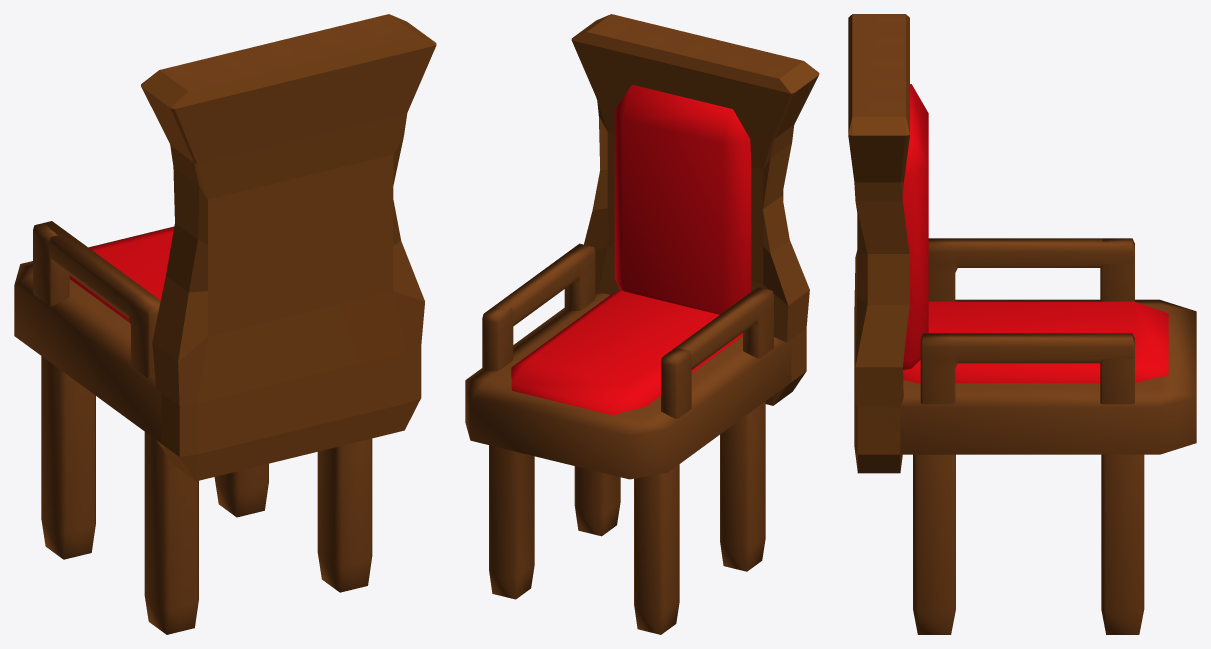
The model's file is Sillas.fbx.
3 views of the same model, side by side, from view 1: azimuth 30°, elevation 25°; view 2: azimuth 150°, elevation 25°; view 3: azimuth 270°, elevation 25° (orthographic). The views are drawn at different scales.
Visible parts, largest first — view 1: Respaldo.001, Asiento.001, AlmohadaAbajo.001; view 2: Asiento.001, Respaldo.001, AlmohadaArriba.001, AlmohadaAbajo.001; view 3: Asiento.001, Respaldo.001, AlmohadaAbajo.001, AlmohadaArriba.001.
Boxes of the visible parts, bbox=[...] form: Respaldo.001: bbox=[141, 14, 436, 481]; Asiento.001: bbox=[14, 221, 372, 634]; AlmohadaAbajo.001: bbox=[69, 227, 174, 322]; Asiento.001: bbox=[465, 243, 791, 634]; Respaldo.001: bbox=[571, 14, 819, 405]; AlmohadaArriba.001: bbox=[614, 85, 751, 314]; AlmohadaAbajo.001: bbox=[511, 290, 742, 415]; Asiento.001: bbox=[891, 238, 1196, 634]; Respaldo.001: bbox=[848, 14, 909, 473]; AlmohadaAbajo.001: bbox=[903, 301, 1168, 383]; AlmohadaArriba.001: bbox=[902, 84, 928, 369].
Size of the model in its own units: 574 by 1183 by 712.
3 materials, 1 textured.
